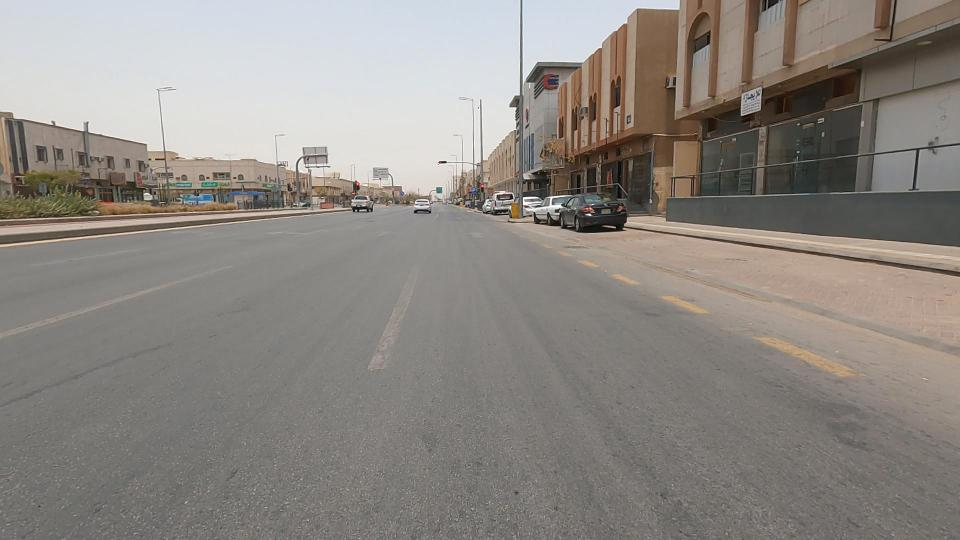BAD_BILLBOARD: (517, 119, 592, 201)
